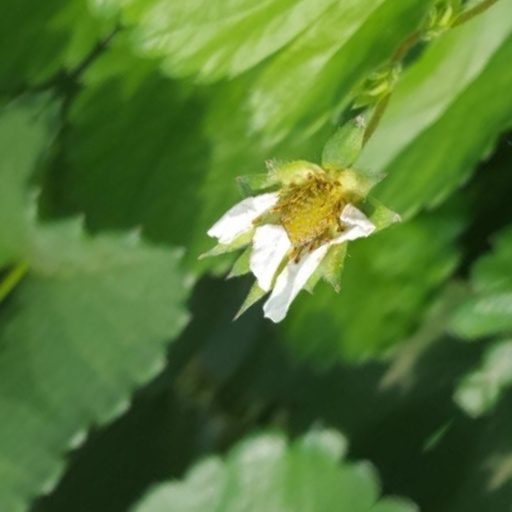Blossom Blight: (205, 273, 285, 368)
